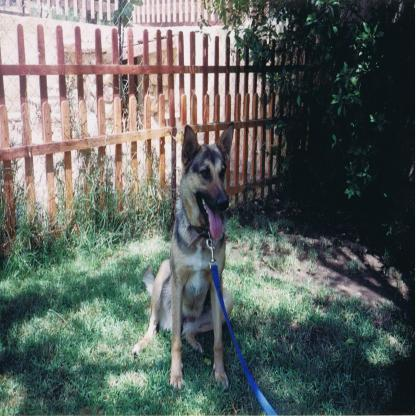german shepherd: (134, 126, 234, 393)
